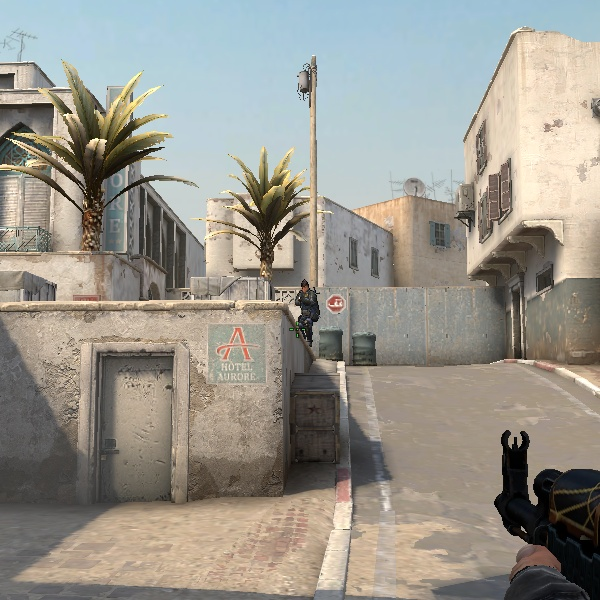t_body: (293, 279, 320, 344)
t_head: (301, 279, 310, 295)
